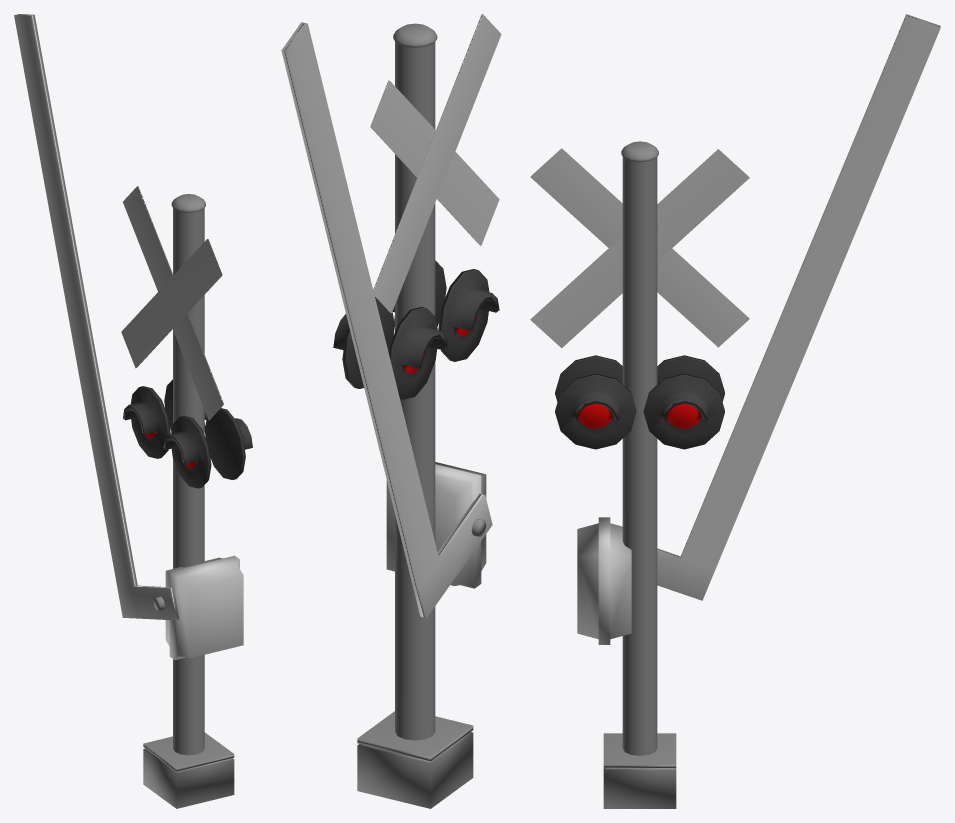
File: RailroadCrossing.fbx
The picture shows the model from 3 angles, left to right: view 1: azimuth 30°, elevation 25°; view 2: azimuth 150°, elevation 25°; view 3: azimuth 270°, elevation 25°; orthographic projection. The views are drawn at different scales.
Visible parts, largest first — view 1: Post, Arm, Lights; view 2: Post, Arm, Lights; view 3: Post, Arm, Lights.
Part boxes in pixels (bbox=[...]): Post: bbox=[121, 186, 243, 808]; Arm: bbox=[14, 14, 179, 620]; Lights: bbox=[123, 379, 252, 488]; Post: bbox=[357, 14, 501, 808]; Arm: bbox=[281, 22, 492, 617]; Lights: bbox=[333, 260, 499, 399]; Post: bbox=[530, 141, 749, 808]; Arm: bbox=[657, 14, 940, 600]; Lights: bbox=[555, 355, 724, 449].
Size of the model in its own units: 21.3 by 189 by 92.58.
